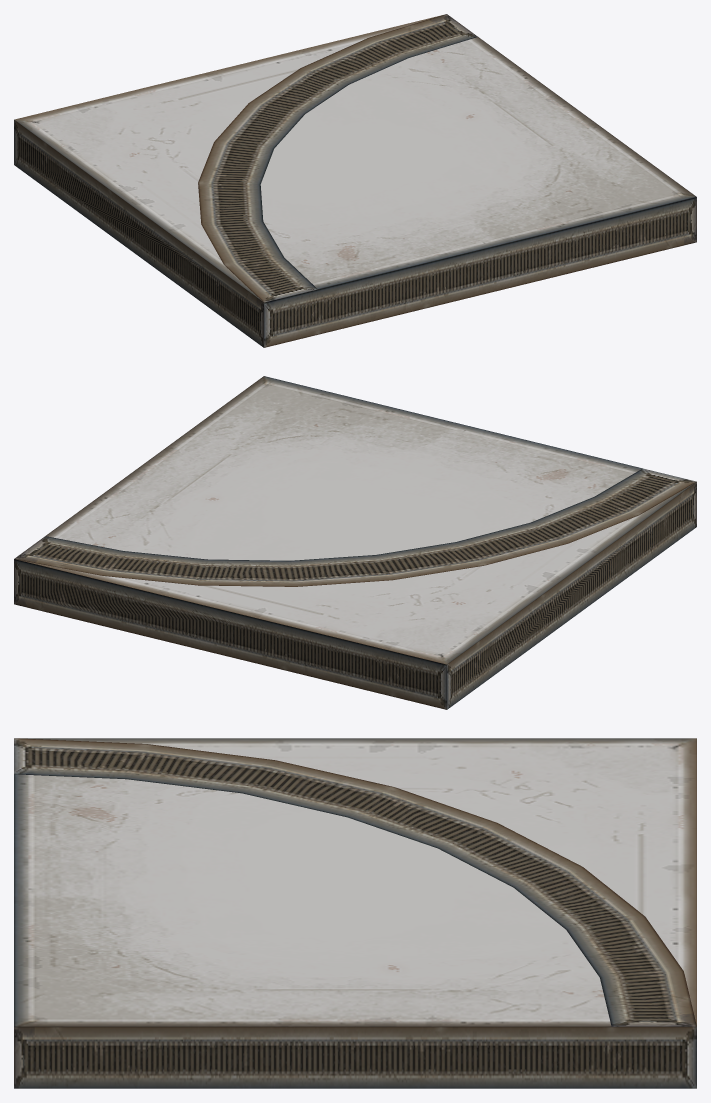
File: scifi_floor_mosaic_10.FBX
The picture shows the model from 3 angles, top to bottom: view 1: azimuth 30°, elevation 25°; view 2: azimuth 150°, elevation 25°; view 3: azimuth 270°, elevation 25°; orthographic projection. The views are drawn at different scales.
Parts seen in each view (by area): view 1: Plane147; view 2: Plane147; view 3: Plane147.
Boxes of the visible parts, x1=… form: Plane147: x1=14, y1=14, x2=696, y2=347; Plane147: x1=14, y1=376, x2=696, y2=709; Plane147: x1=14, y1=738, x2=696, y2=1088.
Bounding box in the file's own units: 254 × 25.4 × 254.
